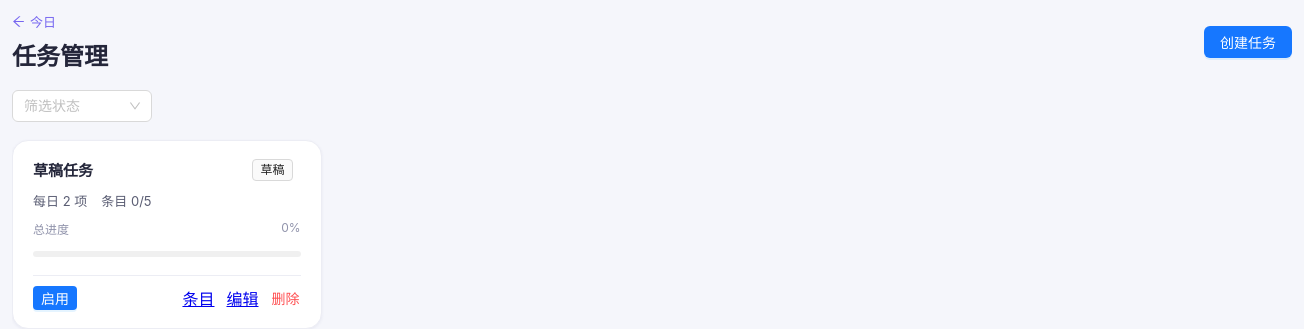
Test case: TaskListPage › activates a draft task via POST /tasks/:id/activate and refreshes its status
expect the link "草稿任务" is shown: met, box [33,159,93,180]
expect the text "草稿" is shown: met, box [252,159,292,181]
Click the button "启用" at (55, 298), box [33,286,77,310]
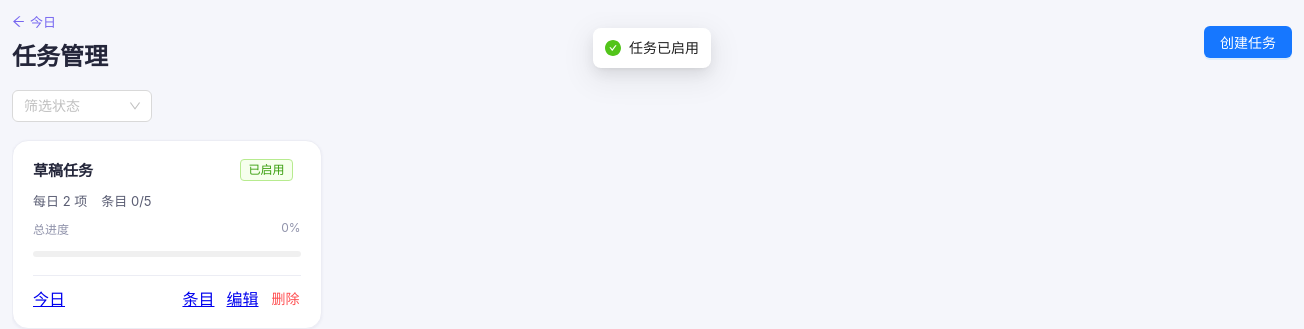
expect the text "已启用" is shown: met, box [240,159,292,181]
